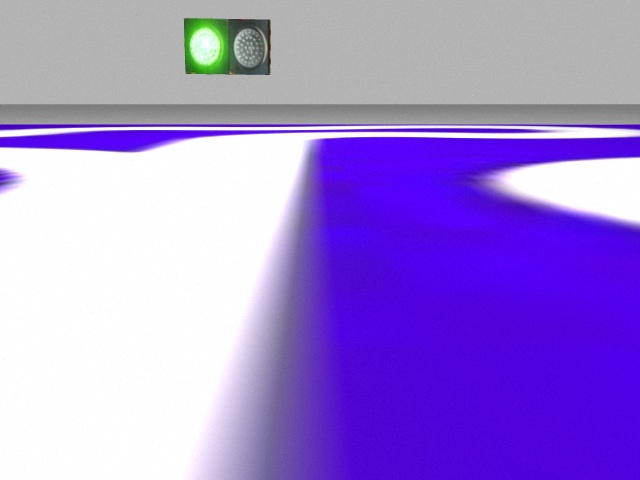green: (184, 17, 230, 75)
